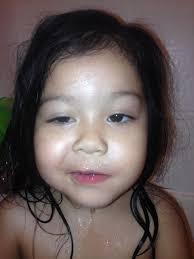strokeEyeSevere: (39, 92, 140, 134)
